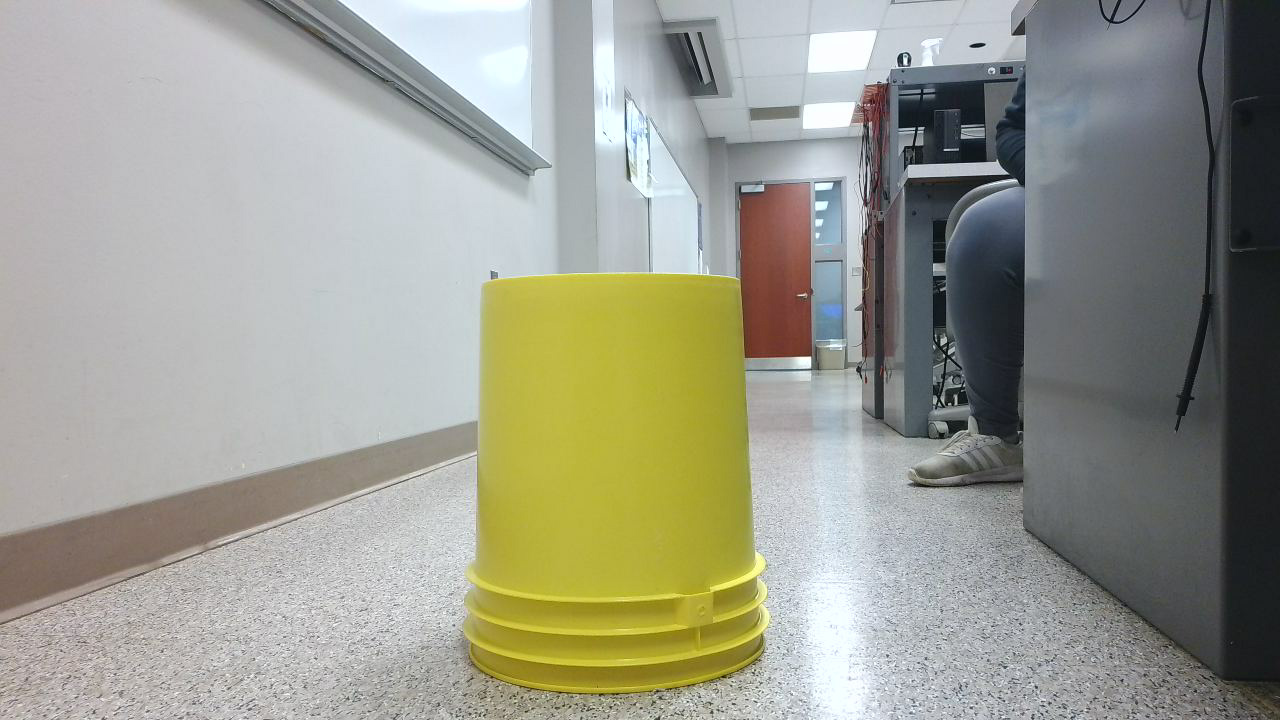yellow_bucket: (459, 273, 779, 706)
